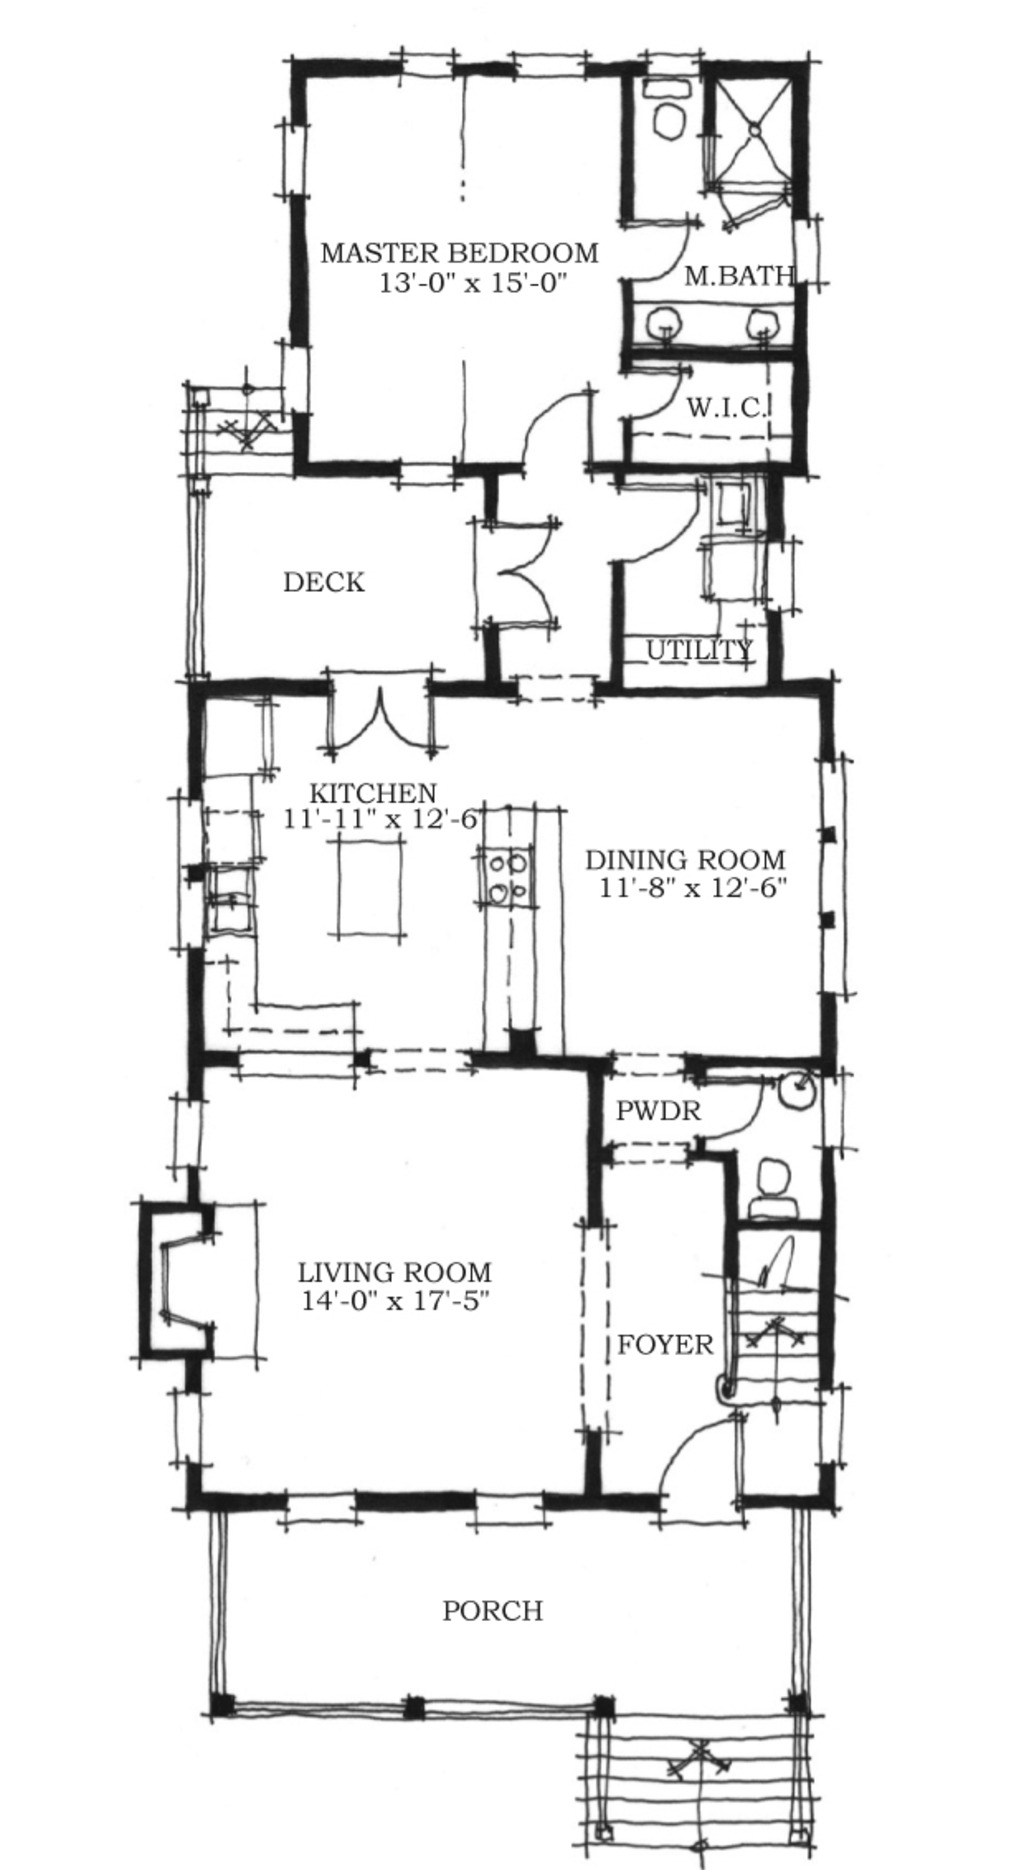door: (319, 673, 445, 753), (651, 1411, 736, 1524), (487, 520, 557, 639), (612, 472, 699, 565), (511, 383, 596, 477), (691, 1063, 777, 1145), (619, 211, 691, 298)
